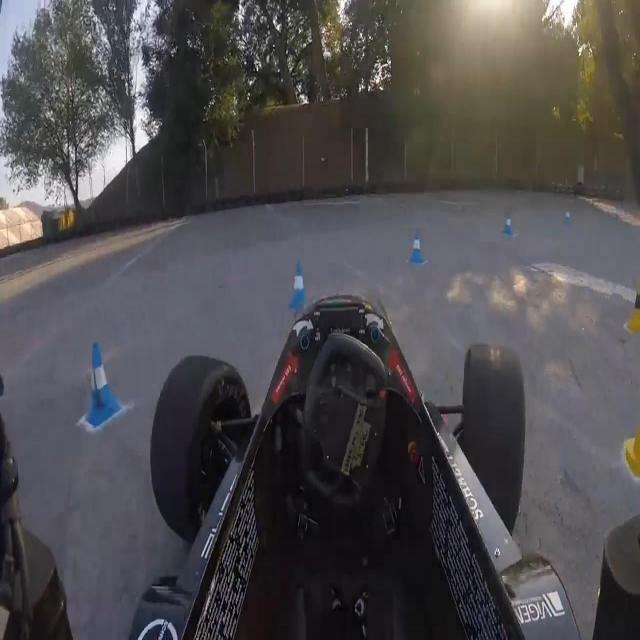blue_cone: (85, 338, 123, 429), (288, 257, 312, 316), (408, 229, 425, 266), (504, 213, 514, 237)
